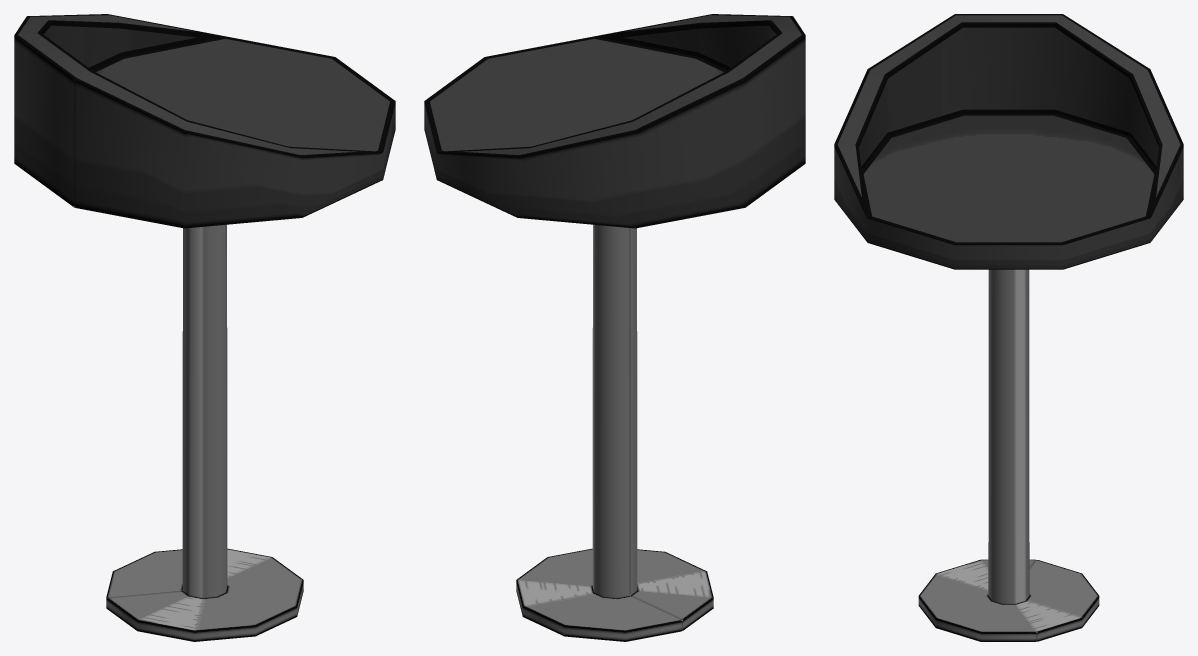
The model's file is Prop_Taburete_Metalico - Copy.fbx.
The picture shows the model from 3 angles, left to right: view 1: azimuth 30°, elevation 25°; view 2: azimuth 150°, elevation 25°; view 3: azimuth 270°, elevation 25°; orthographic projection. The views are drawn at different scales.
Parts seen in each view (by area): view 1: Cube.048; view 2: Cube.048; view 3: Cube.048.
Part boxes in pixels (box(x1,y1,x2,y2)): Cube.048: box(14, 14, 395, 641); Cube.048: box(424, 14, 805, 641); Cube.048: box(834, 14, 1183, 641).
Size of the model in its own units: 0.5522 by 0.9553 by 0.5806.
